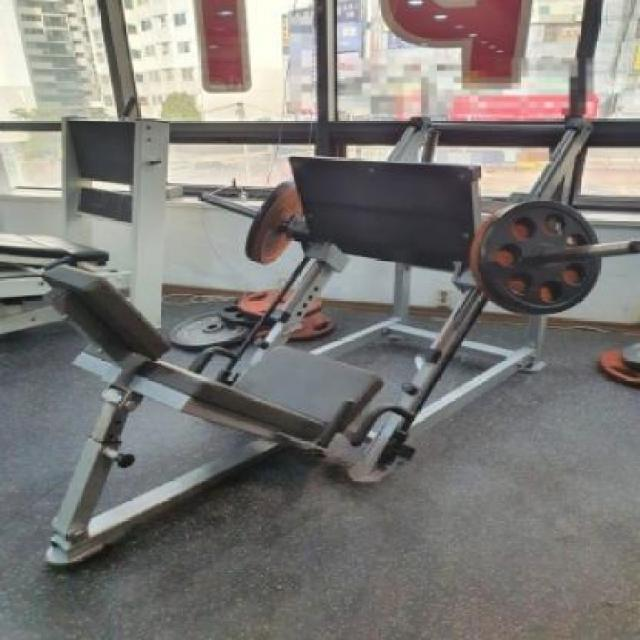leg press: (24, 98, 640, 575)
